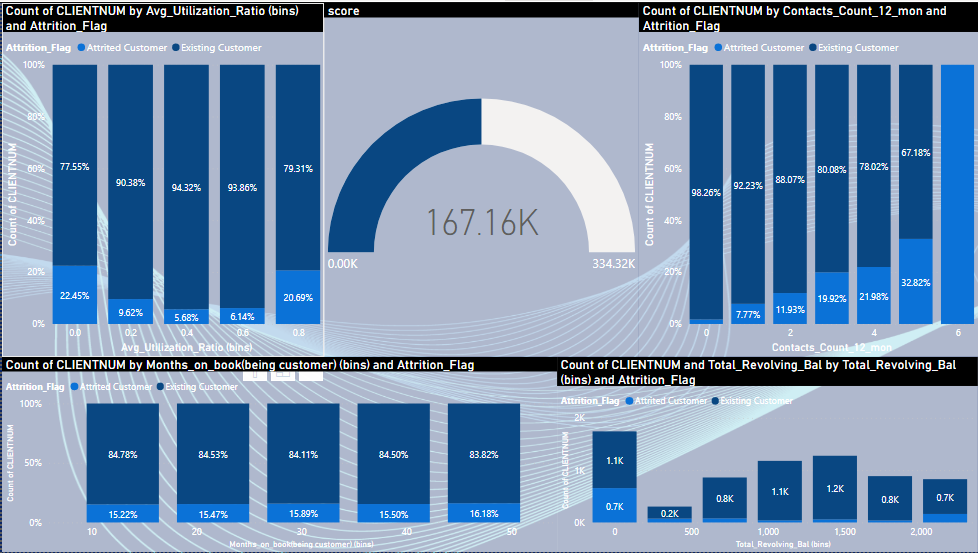

The page's visual inventory and layout, read from the dashboard file:
{"tool":"powerbi","page":{"name":"Credit","canvas":[1280,720],"ordinal":1},"visuals":[{"type":"clusteredColumnChart","fields":{"Category":["BankChurners.Total_Revolving_Bal (bins)"],"Y":["CountNonNull(BankChurners.CLIENTNUM)"],"Series":["BankChurners.Attrition_Flag"]},"box":[728.1,463.8,551.9,256],"z":0},{"type":"clusteredColumnChart","fields":{"Category":["BankChurners.Contacts_Count_12_mon"],"Y":["CountNonNull(BankChurners.CLIENTNUM)"],"Series":["BankChurners.Attrition_Flag"]},"box":[835.4,0,444.6,463.8],"z":1000},{"type":"clusteredColumnChart","fields":{"Category":["BankChurners.Avg_Utilization_Ratio (bins)"],"Series":["BankChurners.Attrition_Flag"],"Y":["CountNonNull(BankChurners.CLIENTNUM)"]},"box":[0,0,422.5,463.8],"z":2000},{"type":"clusteredColumnChart","fields":{"Category":["BankChurners.Months_on_book(being customer) (bins)"],"Y":["CountNonNull(BankChurners.CLIENTNUM)"],"Series":["BankChurners.Attrition_Flag"]},"box":[0,463.8,728.1,256],"z":3000},{"type":"gauge","fields":{"Y":["Sum(BankChurners.score)"]},"box":[422.3,0,413.1,464.3],"z":5000}]}

Visuals, with their boxes in screenshot pixels (x1, y1, x2, y2), scaled from the page's 1280x720 canvas onto the 978x553 screenshot:
clusteredColumnChart - BankChurners.Total_Revolving_Bal (bins) x CountNonNull(BankChurners.CLIENTNUM): [left=556, top=356, right=977, bottom=552]
clusteredColumnChart - BankChurners.Contacts_Count_12_mon x CountNonNull(BankChurners.CLIENTNUM): [left=638, top=0, right=977, bottom=356]
clusteredColumnChart - BankChurners.Avg_Utilization_Ratio (bins) x BankChurners.Attrition_Flag: [left=0, top=0, right=323, bottom=356]
clusteredColumnChart - BankChurners.Months_on_book(being customer) (bins) x CountNonNull(BankChurners.CLIENTNUM): [left=0, top=356, right=556, bottom=552]
gauge - Sum(BankChurners.score): [left=323, top=0, right=638, bottom=357]
